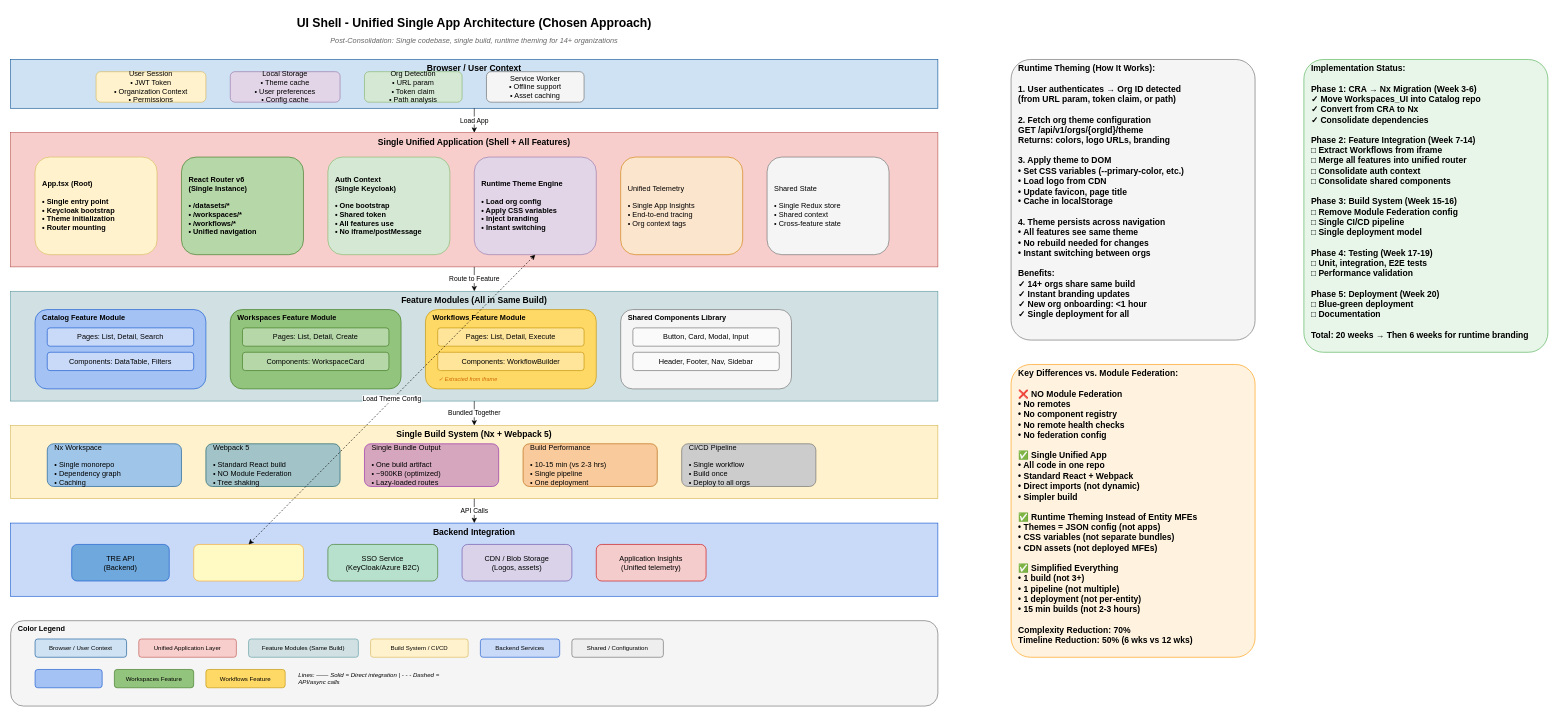
This 1559x717 diagram has some shape labels left out. Here are the shapes that lost their labels. From the top down, the centre of each, then its label:
At (248,562): "Theme Config API (Organization themes)".
At (68,678): "Catalog Feature".
